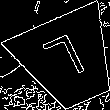L_SE: (42, 32, 95, 90)
